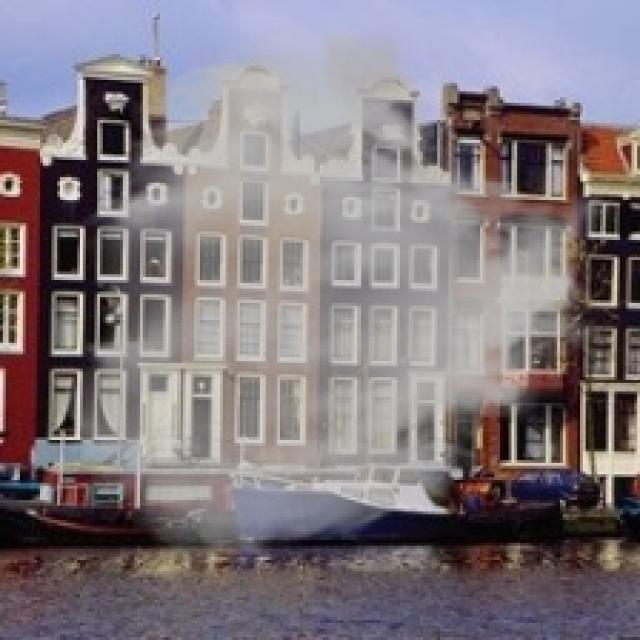Smoke: (60, 20, 614, 566)
